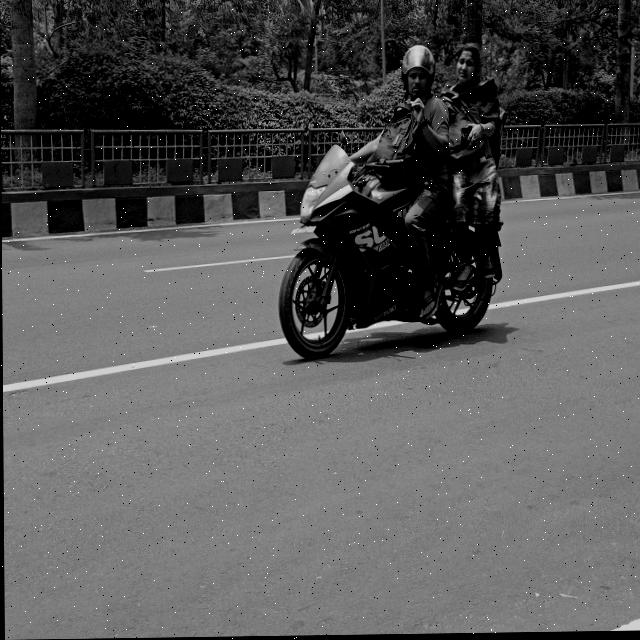bike: (271, 152, 504, 353)
